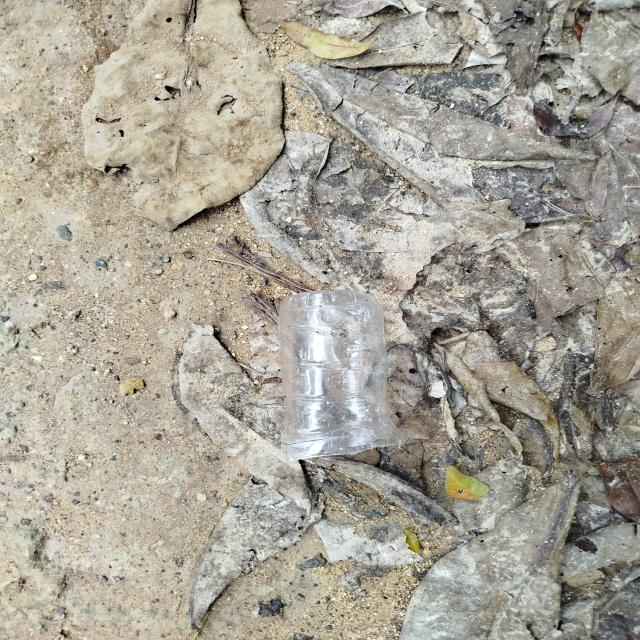plastic: (252, 277, 443, 471)
